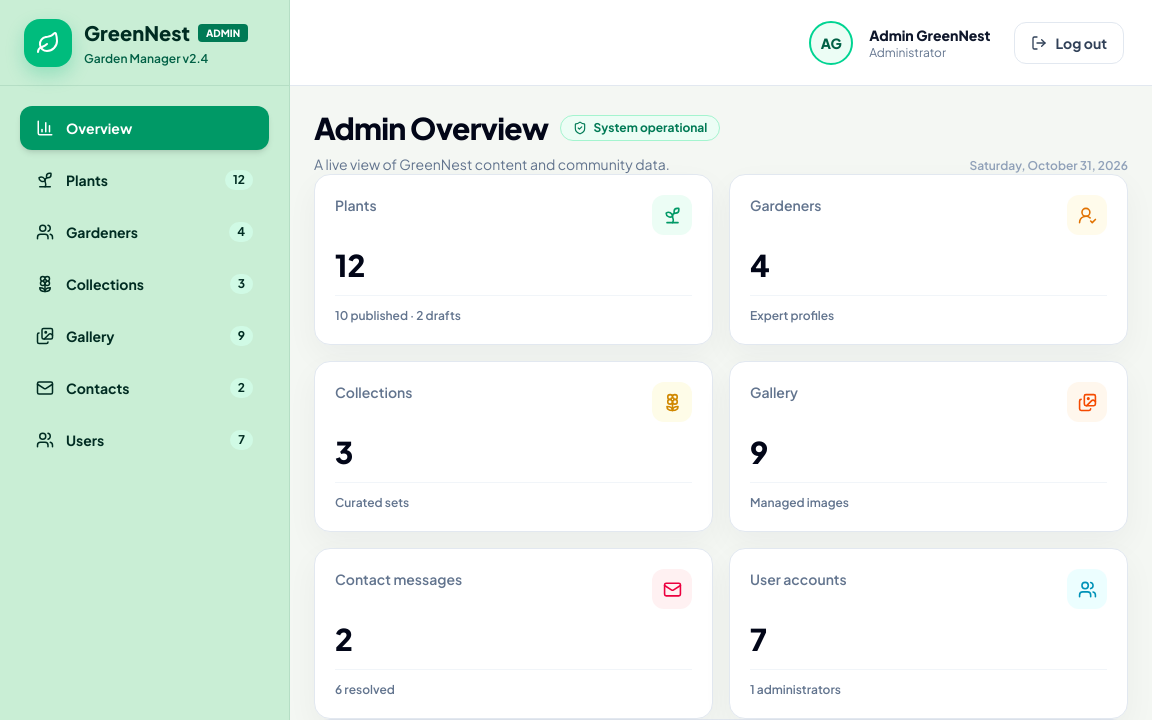
Test: Admin dashboard › switches to each page component from the sidebar
This screenshot has width=1152, height=720.
Click the button "Plants 12" at (144, 180), box [20,158,269,202]
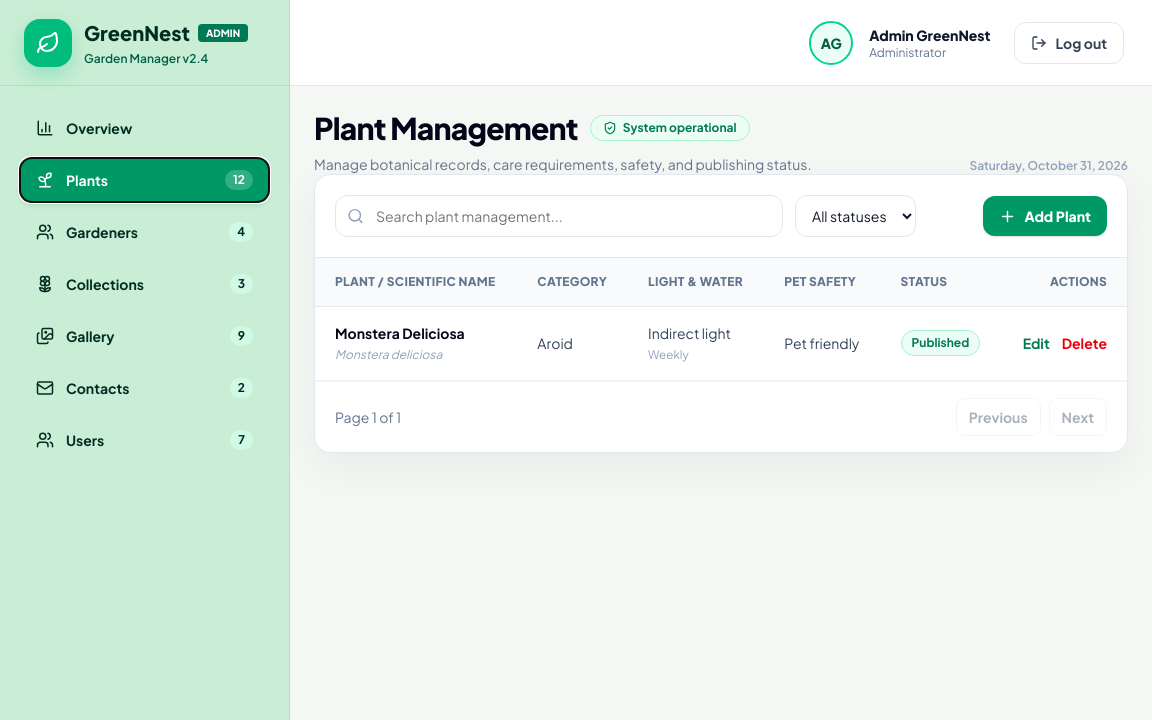
expect the heading "Plant Management" is shown: met, box [314,110,578,146]
Click the button "Gardeners 4" at (144, 232), box [20,210,269,254]
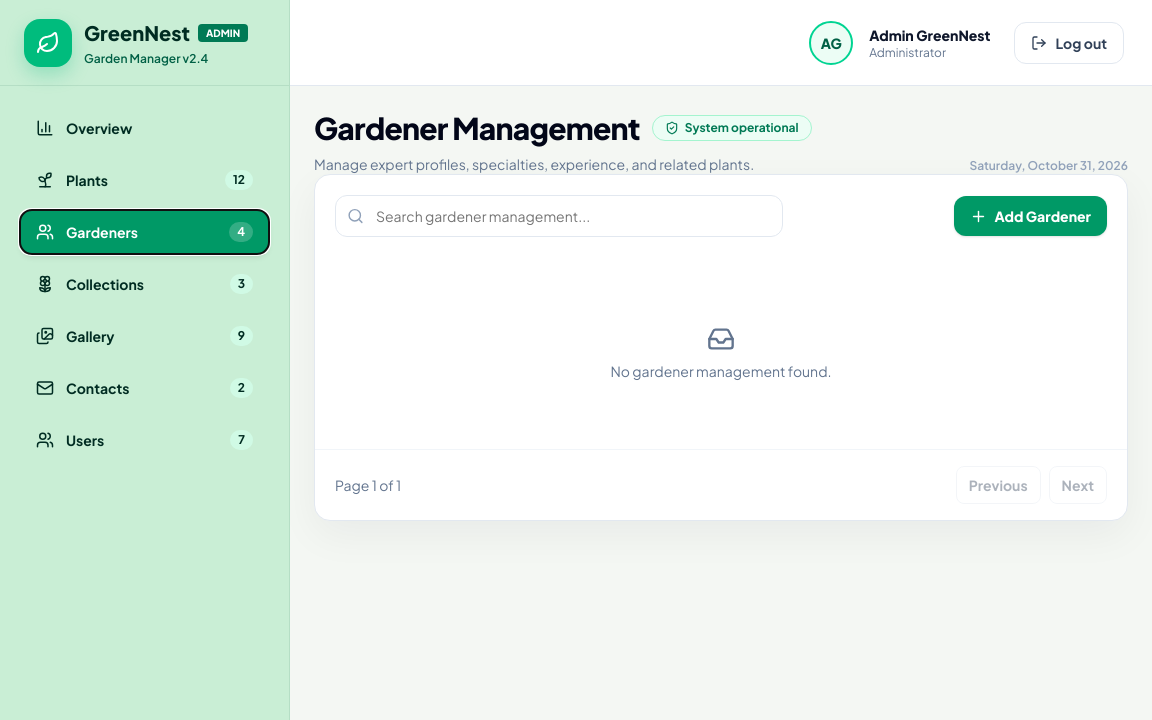
expect the heading "Gardener Management" is shown: met, box [314,110,640,146]
Click the button "Collections 3" at (144, 284), box [20,262,269,306]
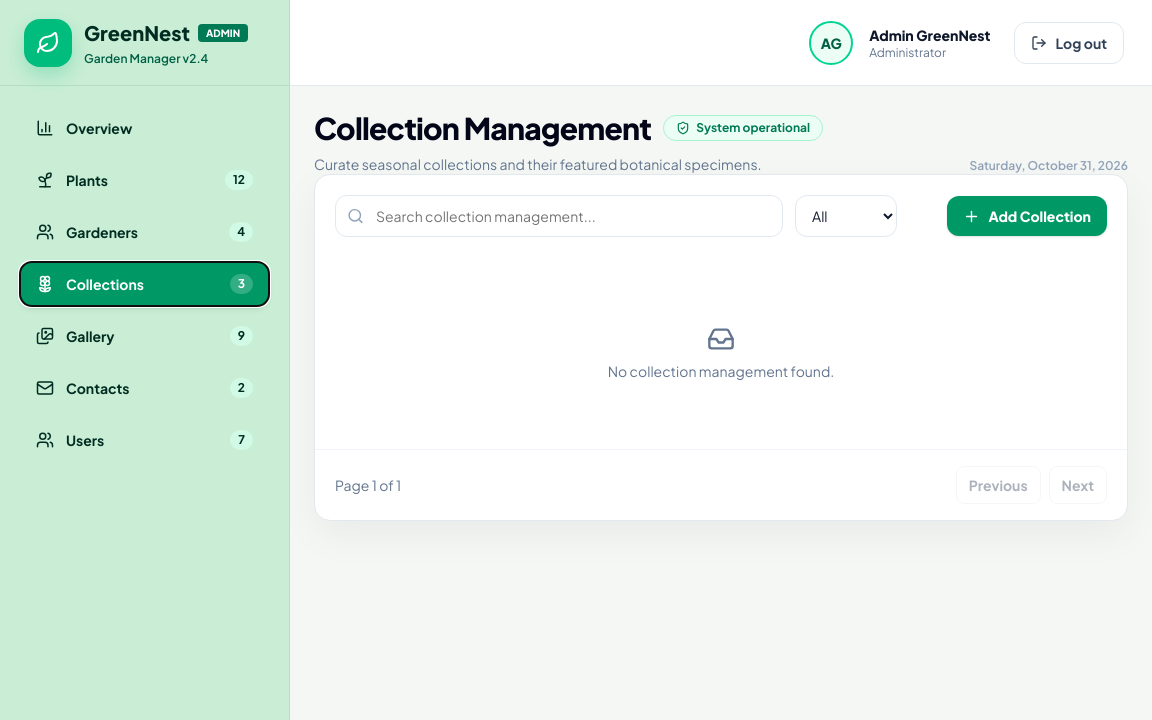
expect the heading "Collection Management" is shown: met, box [314,110,651,146]
Click the button "Gallery 9" at (144, 336), box [20,314,269,358]
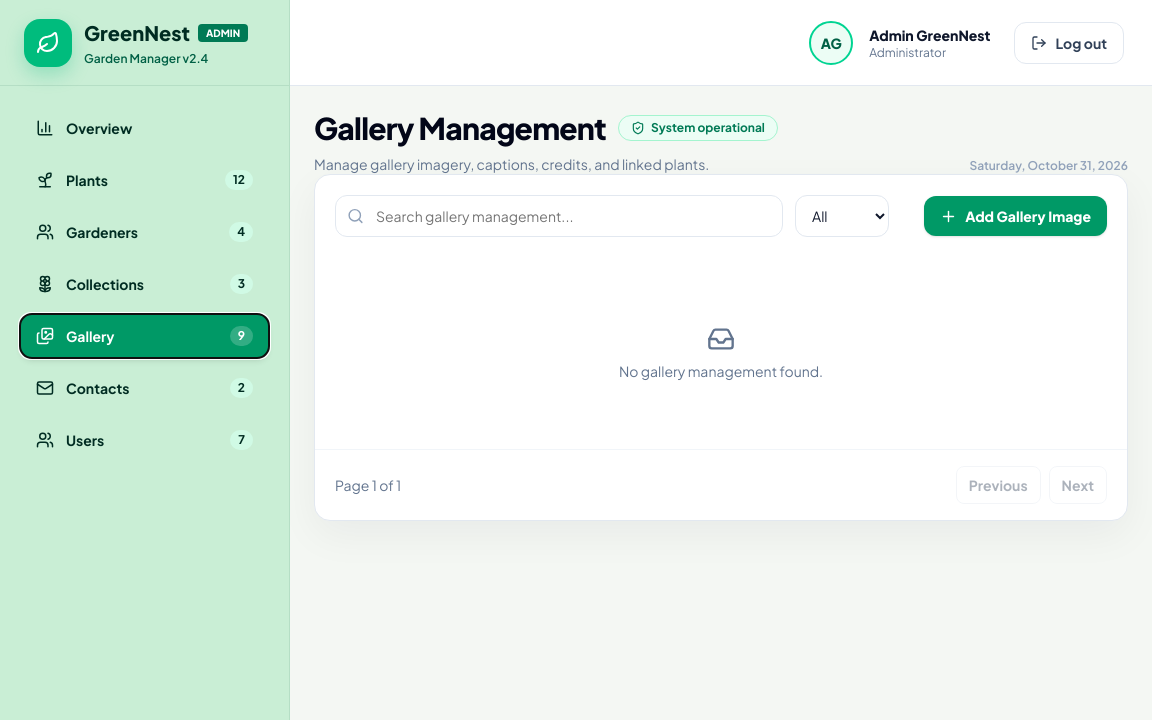
expect the heading "Gallery Management" is shown: met, box [314,110,606,146]
Click the button "Contacts 2" at (144, 388), box [20,366,269,410]
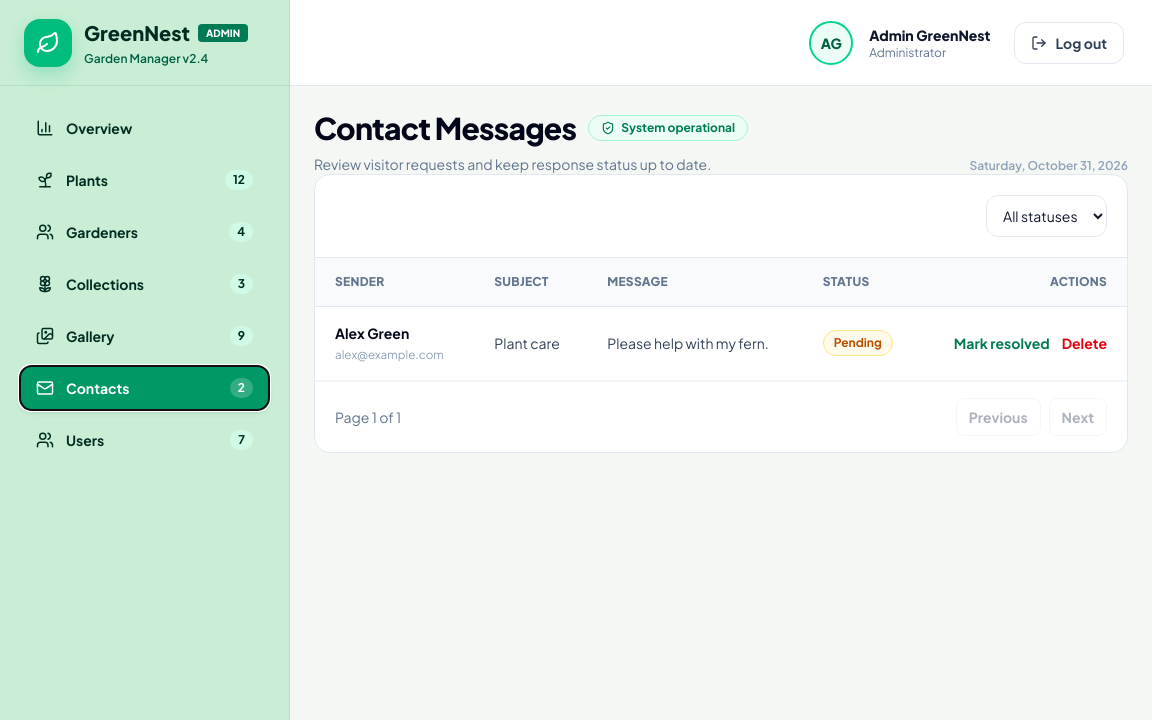
expect the heading "Contact Messages" is shown: met, box [314,110,576,146]
Click the button "Users 7" at (144, 440), box [20,418,269,462]
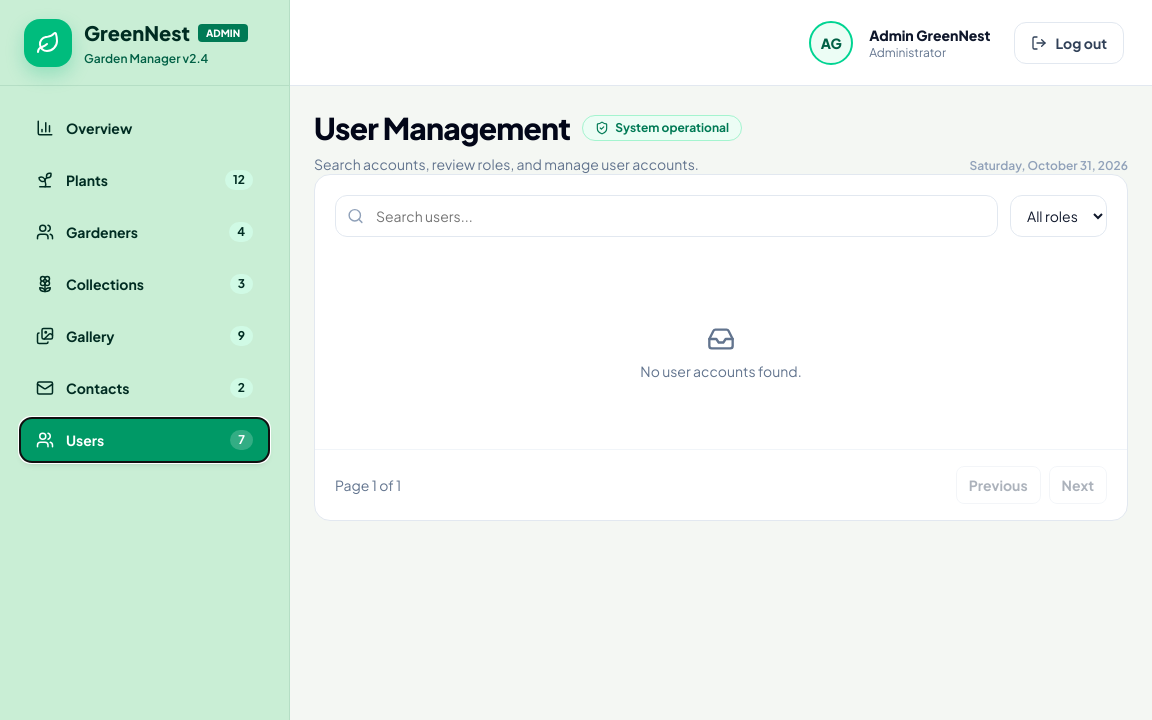
expect the heading "User Management" is shown: met, box [314,110,570,146]
